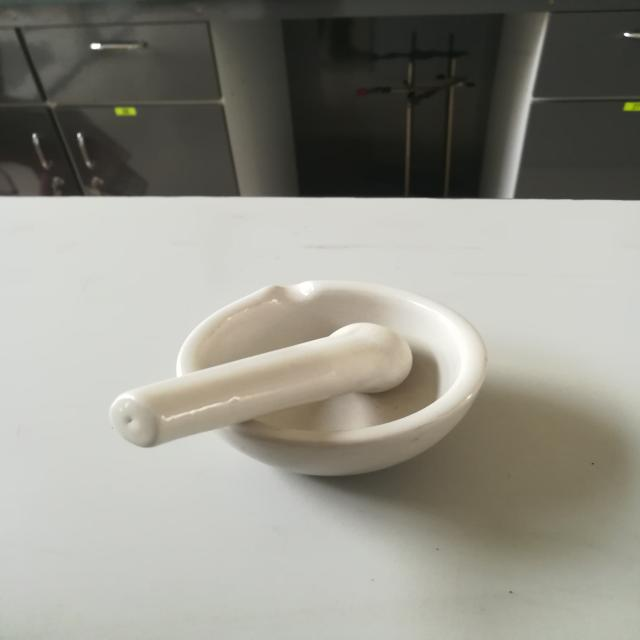Porcelain_Mortar Pestle: (72, 248, 556, 523)
